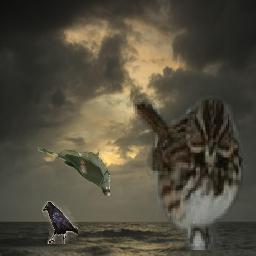Crow: (42, 202, 78, 245)
Cuckoo: (38, 146, 111, 196)
Sparrow: (133, 96, 243, 251)
